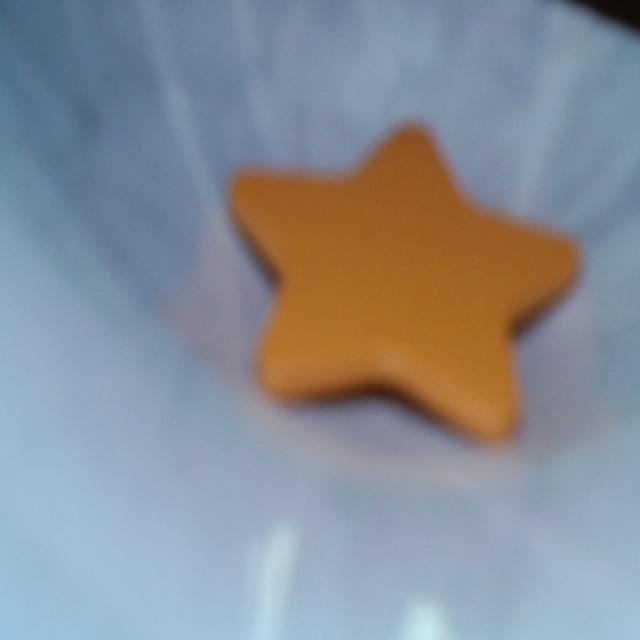star: (230, 127, 578, 441)
